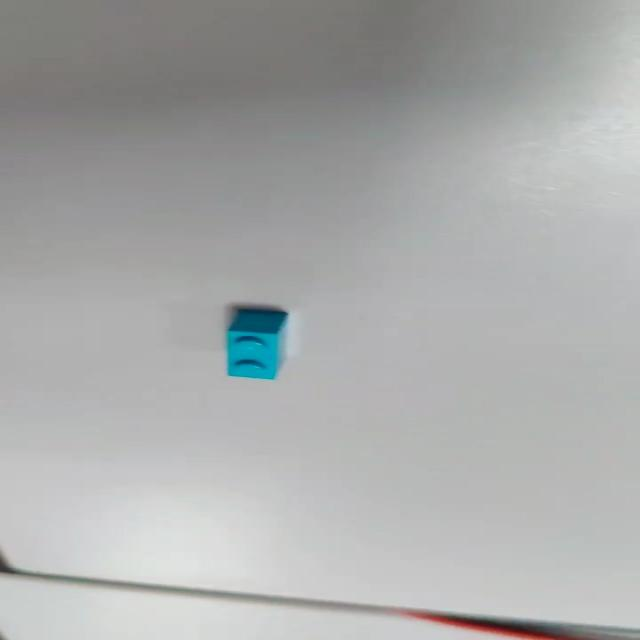C2x1x1: (223, 306, 289, 380)
